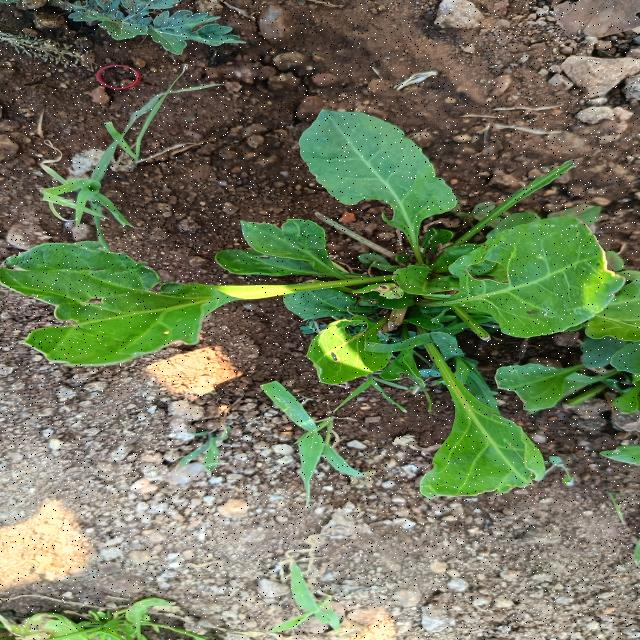leaves: (1, 210, 309, 378), (378, 338, 585, 504), (412, 203, 635, 342), (281, 92, 463, 261), (199, 197, 357, 293), (298, 315, 407, 392)
